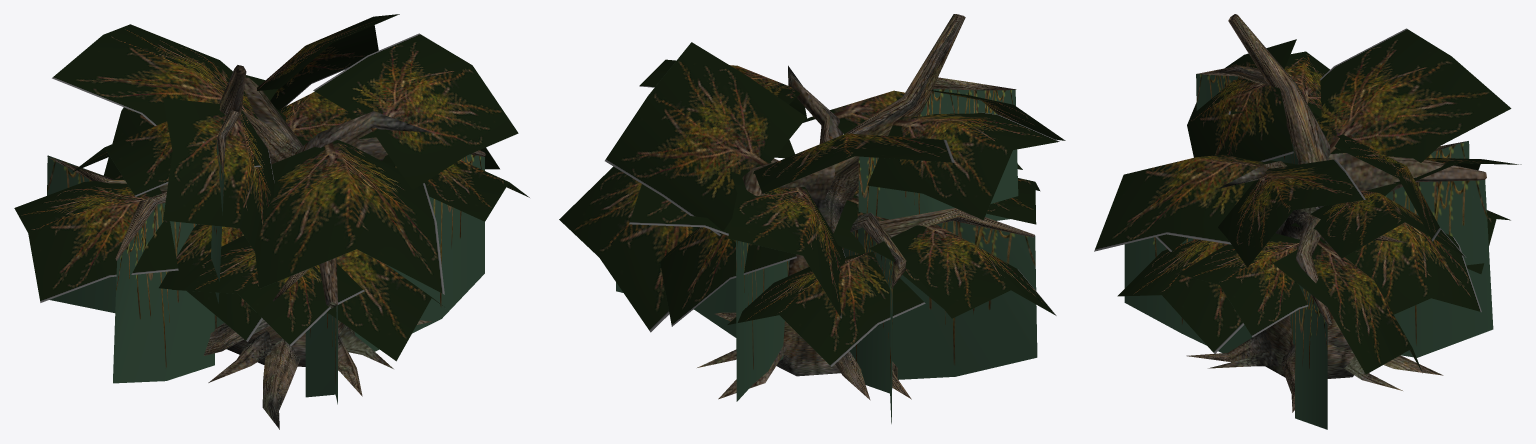
The model's file is tree01.fbx.
3 views of the same model, side by side, from view 1: azimuth 30°, elevation 25°; view 2: azimuth 150°, elevation 25°; view 3: azimuth 270°, elevation 25° (orthographic). The views are drawn at different scales.
Visible parts, largest first — view 1: tree01; view 2: tree01; view 3: tree01.
Part boxes in pixels (x1,y1,x2,y2): tree01: (14, 14, 529, 429); tree01: (559, 14, 1065, 423); tree01: (1094, 14, 1521, 429).
Bounding box in the file's own units: 2204 × 1559 × 1884.
